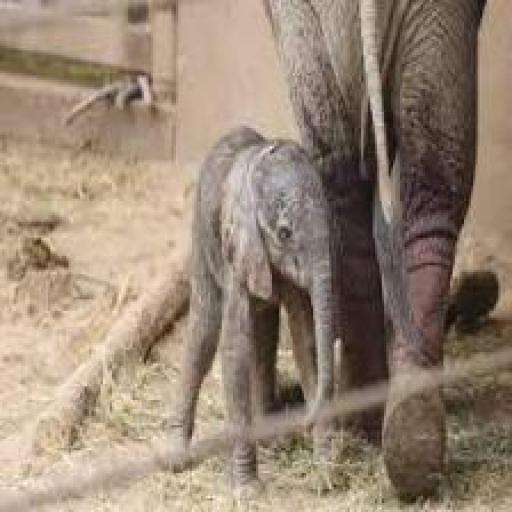Elephant: (133, 85, 376, 505)
